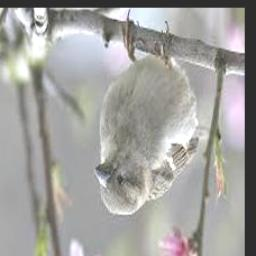Sparrow: (93, 12, 210, 216)
